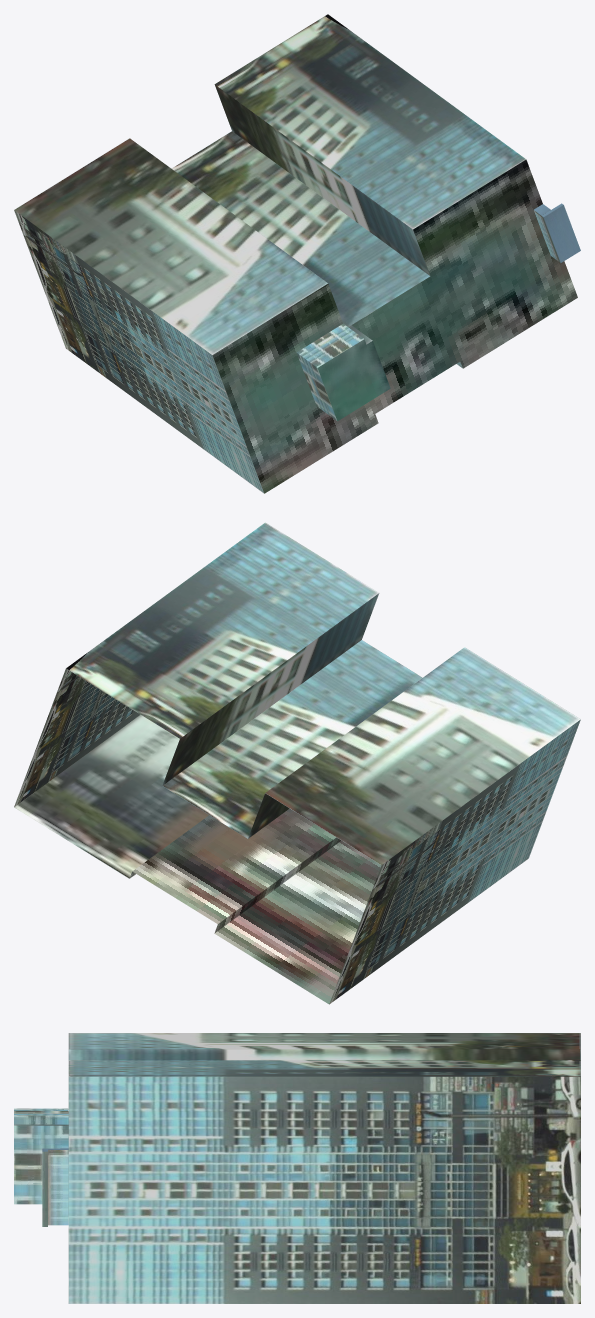
The picture shows the model from 3 angles, top to bottom: view 1: azimuth 30°, elevation 25°; view 2: azimuth 150°, elevation 25°; view 3: azimuth 270°, elevation 25°; orthographic projection. The views are drawn at different scales.
Visible parts, largest first — view 1: IndexedFaceSet__23_0, IndexedFaceSet__4_0, IndexedFaceSet__9_0, IndexedFaceSet__3_0, IndexedFaceSet__6_0, IndexedFaceSet__8_0, IndexedFaceSet__22_0, IndexedFaceSet__28_0, IndexedFaceSet__15_0, IndexedFaceSet__27_0; view 2: IndexedFaceSet__4_0, IndexedFaceSet__9_0, IndexedFaceSet__3_0, IndexedFaceSet__6_0, IndexedFaceSet__11_0, IndexedFaceSet__2_0, IndexedFaceSet__13_0, IndexedFaceSet__8_0, IndexedFaceSet__10_0, IndexedFaceSet__14_0, IndexedFaceSet__5_0; view 3: IndexedFaceSet__10_0, IndexedFaceSet__4_0, IndexedFaceSet__9_0, IndexedFaceSet__5_0, IndexedFaceSet__25_0, IndexedFaceSet, IndexedFaceSet__29_0, IndexedFaceSet__21_0, IndexedFaceSet__28_0.
Part boxes in pixels (x1=…): IndexedFaceSet__23_0: x1=212, y1=159, x2=577, y2=493; IndexedFaceSet__4_0: x1=14, y1=138, x2=327, y2=354; IndexedFaceSet__9_0: x1=214, y1=14, x2=525, y2=229; IndexedFaceSet__3_0: x1=14, y1=210, x2=263, y2=493; IndexedFaceSet__6_0: x1=171, y1=131, x2=430, y2=326; IndexedFaceSet__8_0: x1=215, y1=85, x2=430, y2=275; IndexedFaceSet__22_0: x1=317, y1=339, x2=390, y2=421; IndexedFaceSet__28_0: x1=297, y1=323, x2=363, y2=367; IndexedFaceSet__15_0: x1=543, y1=205, x2=580, y2=262; IndexedFaceSet__27_0: x1=297, y1=353, x2=336, y2=420; IndexedFaceSet__4_0: x1=265, y1=647, x2=580, y2=864; IndexedFaceSet__9_0: x1=66, y1=522, x2=378, y2=738; IndexedFaceSet__3_0: x1=329, y1=719, x2=580, y2=1004; IndexedFaceSet__6_0: x1=162, y1=640, x2=422, y2=838; IndexedFaceSet__11_0: x1=14, y1=714, x2=208, y2=878; IndexedFaceSet__2_0: x1=214, y1=840, x2=381, y2=1004; IndexedFaceSet__13_0: x1=132, y1=808, x2=335, y2=923; IndexedFaceSet__8_0: x1=162, y1=593, x2=379, y2=785; IndexedFaceSet__10_0: x1=14, y1=668, x2=140, y2=806; IndexedFaceSet__14_0: x1=214, y1=837, x2=341, y2=933; IndexedFaceSet__5_0: x1=248, y1=793, x2=289, y2=838; IndexedFaceSet__10_0: x1=68, y1=1076, x2=580, y2=1303; IndexedFaceSet__4_0: x1=68, y1=1033, x2=580, y2=1049; IndexedFaceSet__9_0: x1=68, y1=1060, x2=580, y2=1076; IndexedFaceSet__5_0: x1=68, y1=1049, x2=580, y2=1060; IndexedFaceSet__25_0: x1=14, y1=1125, x2=68, y2=1204; IndexedFaceSet: x1=48, y1=1150, x2=68, y2=1225; IndexedFaceSet__29_0: x1=14, y1=1115, x2=68, y2=1124; IndexedFaceSet__21_0: x1=42, y1=1151, x2=47, y2=1226; IndexedFaceSet__28_0: x1=14, y1=1108, x2=68, y2=1115.
Size of the model in its own units: 59.05 by 41.75 by 61.46.
20 materials, 19 textured.
